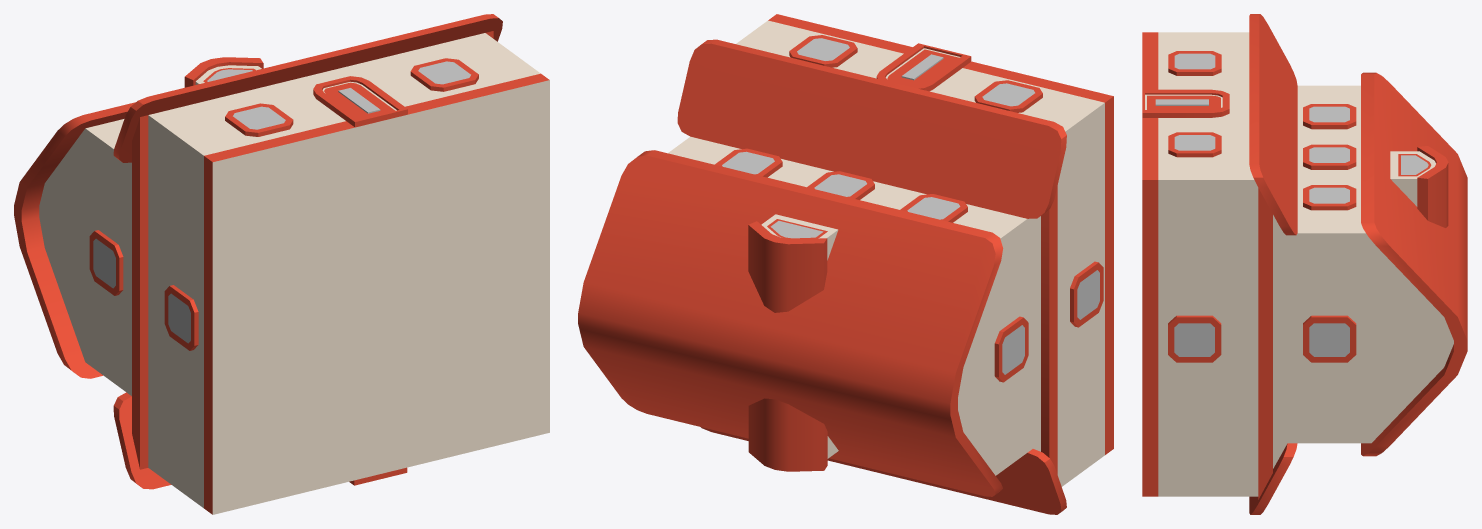
Rendered from House05.fbx.
The picture shows the model from 3 angles, left to right: view 1: azimuth 30°, elevation 25°; view 2: azimuth 150°, elevation 25°; view 3: azimuth 270°, elevation 25°; orthographic projection. The views are drawn at different scales.
Parts seen in each view (by area): view 1: dh006; view 2: dh006; view 3: dh006.
Boxes of the visible parts, x1=… form: dh006: x1=14, y1=14, x2=549, y2=514; dh006: x1=578, y1=14, x2=1113, y2=514; dh006: x1=1142, y1=14, x2=1467, y2=514.
Bounding box in the file's own units: 997 × 994 × 840.
